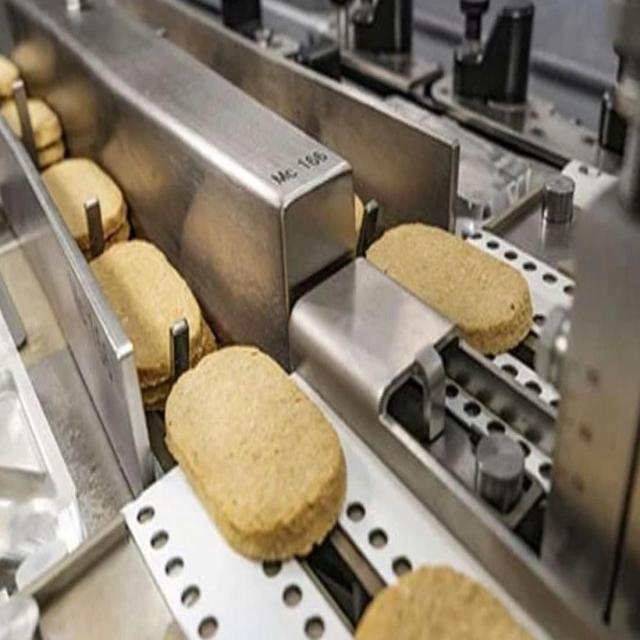food: (161, 341, 353, 565), (86, 238, 210, 394)
